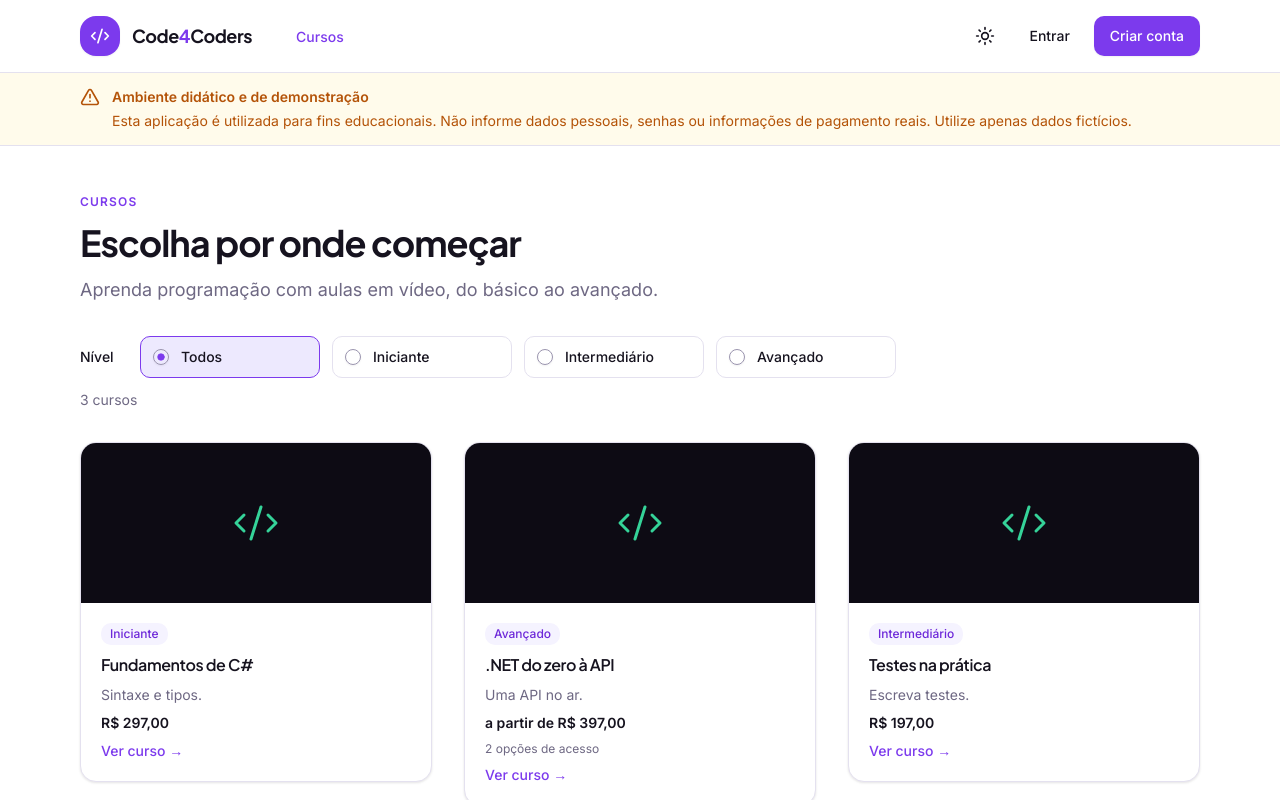
Test: student showcase flow › puts the chosen level in the address, translates it to the contract enum and keeps focus on the option
Expected: the link "Fundamentos de C#" is shown, [101,654,254,675]
Click the 2nd radio button named "Iniciante" at (353, 357), box [345,349,361,365]
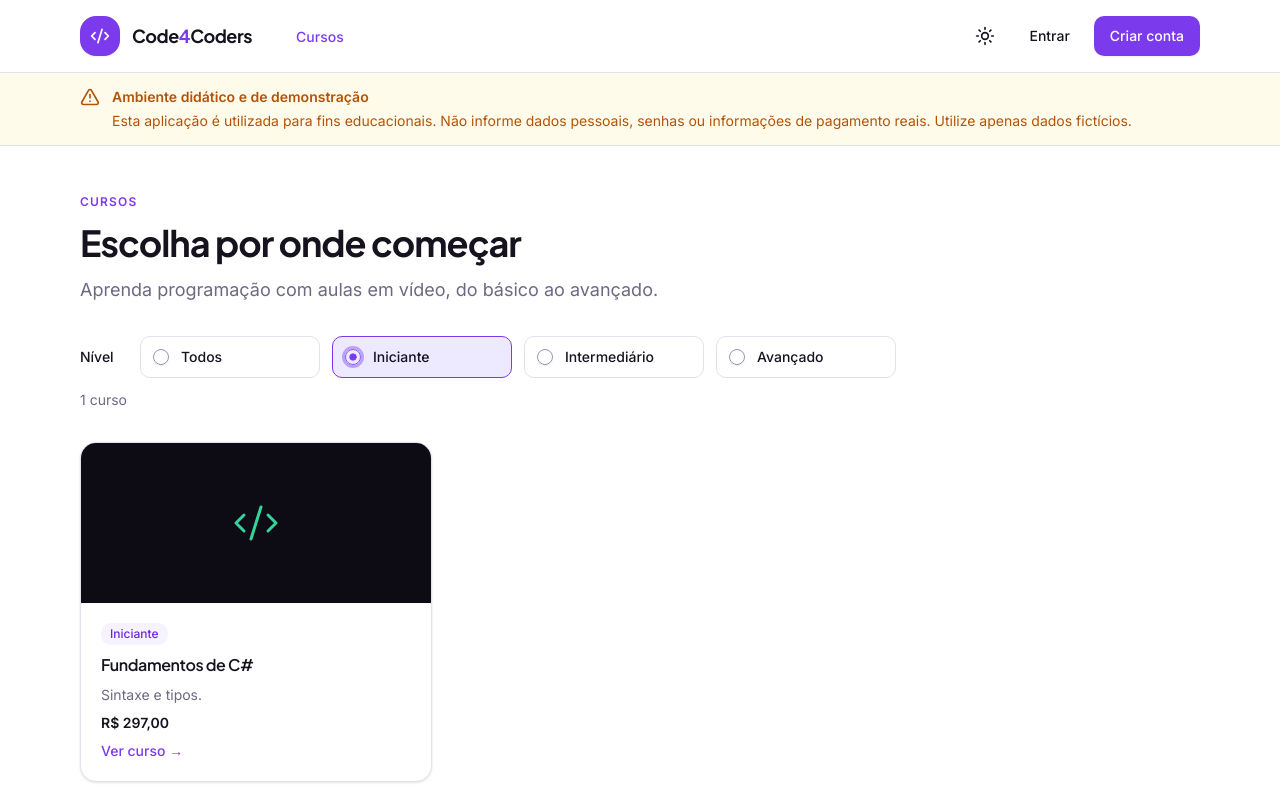
Expected: the link "Fundamentos de C#" is shown, [101,654,254,675]
Expected: the message reads "1 curso", [80,391,127,408]
Expected: the link ".NET do zero à API" is gone
